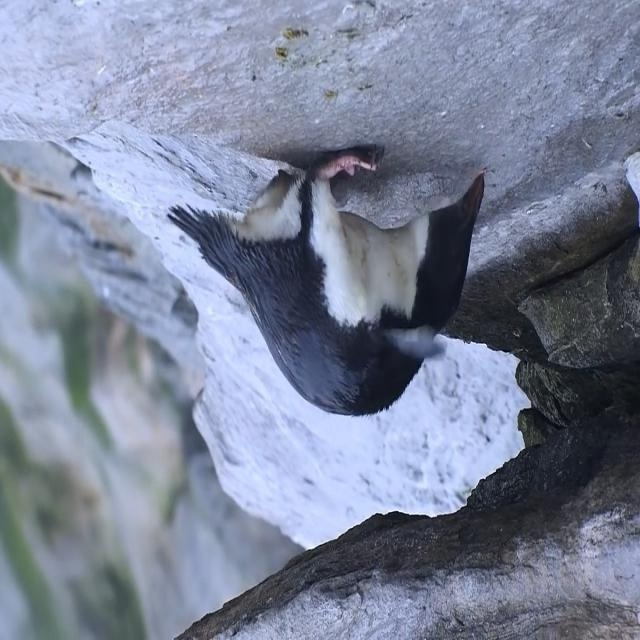penguin: (164, 142, 486, 419)
